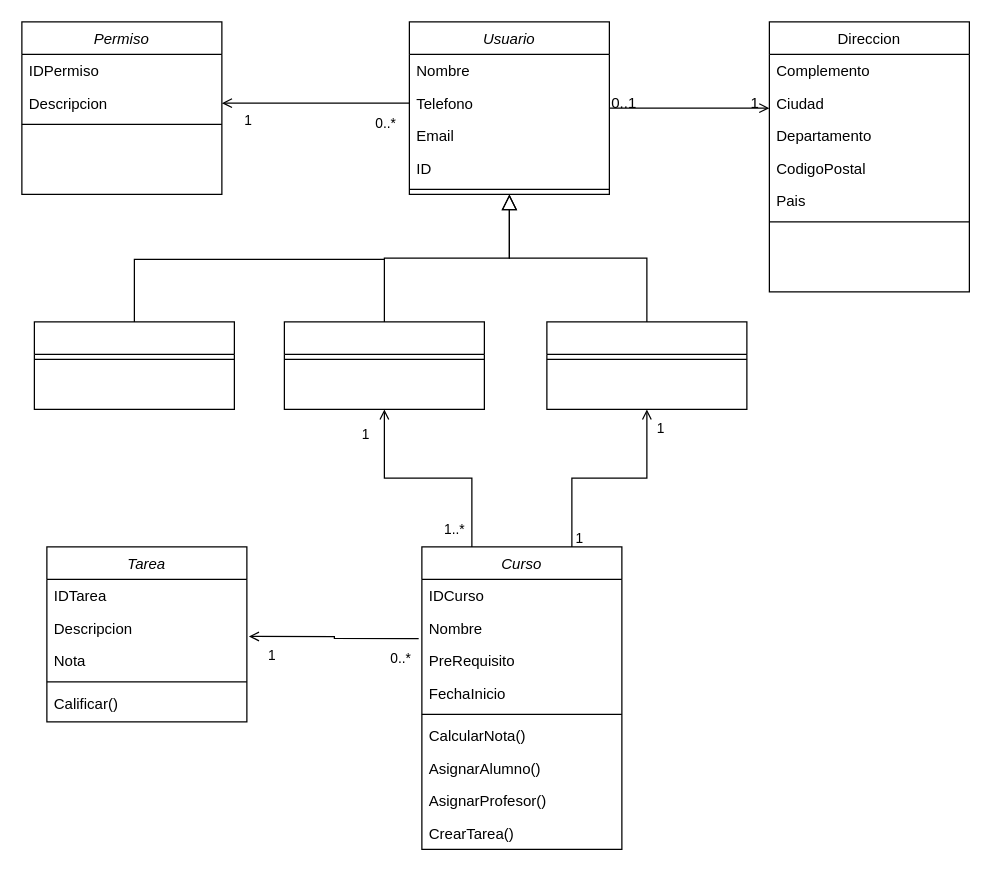
This 991x875 diagram has some shape labels left out. The shapes that lost their labels are listed below. From the top down, each one's centre as x and y in pixels, then its label:
pixel 133 365: Administrador
pixel 383 365: Estudiante
pixel 646 365: Profesor
